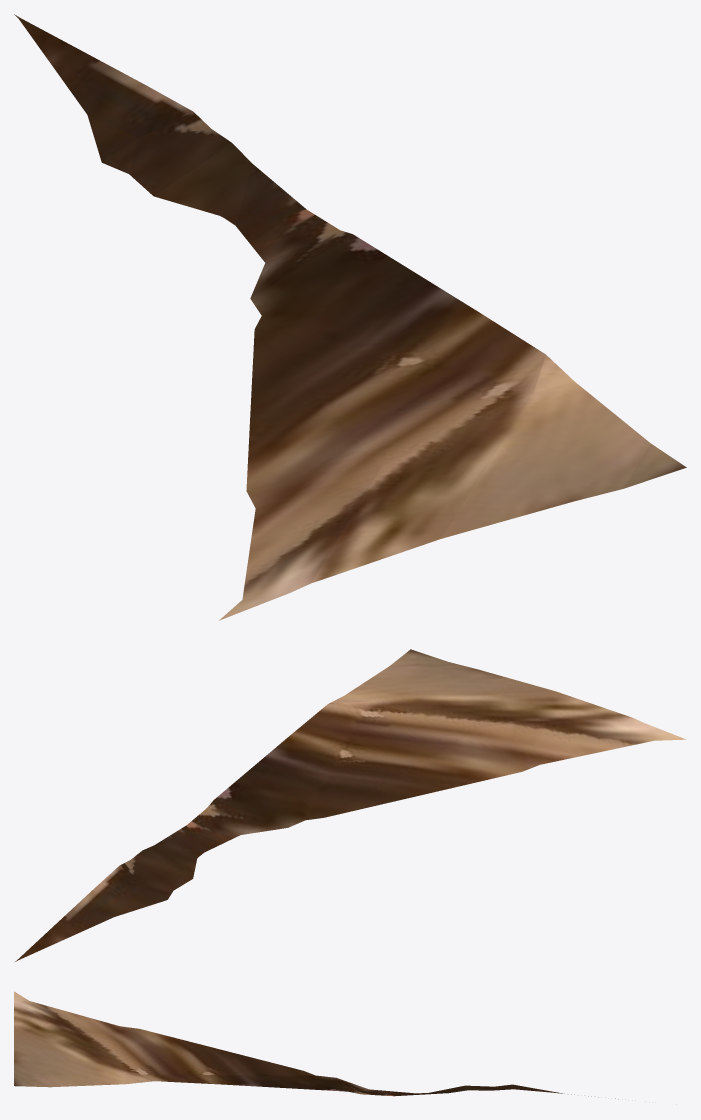
3 views of the same model, one above another, from view 1: azimuth 30°, elevation 25°; view 2: azimuth 150°, elevation 25°; view 3: azimuth 270°, elevation 25° (orthographic). The views are drawn at different scales.
Bounding box in the file's own units: 0.2419 × 0.0241 × 0.6018.
Materials: 1 (1 with a texture image).
